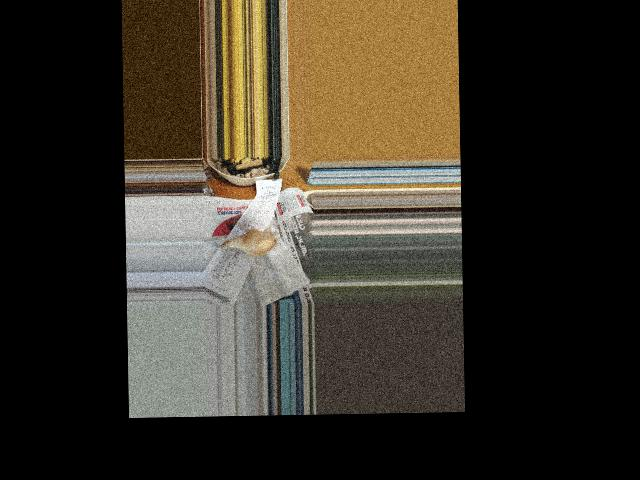onion: (239, 231, 275, 253)
